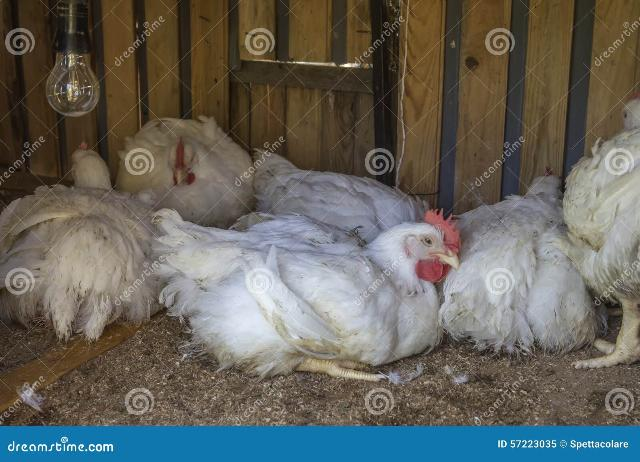Chicken: (151, 207, 462, 383), (0, 142, 167, 340), (441, 167, 608, 349), (562, 95, 640, 370), (253, 149, 434, 244), (118, 114, 258, 229)
